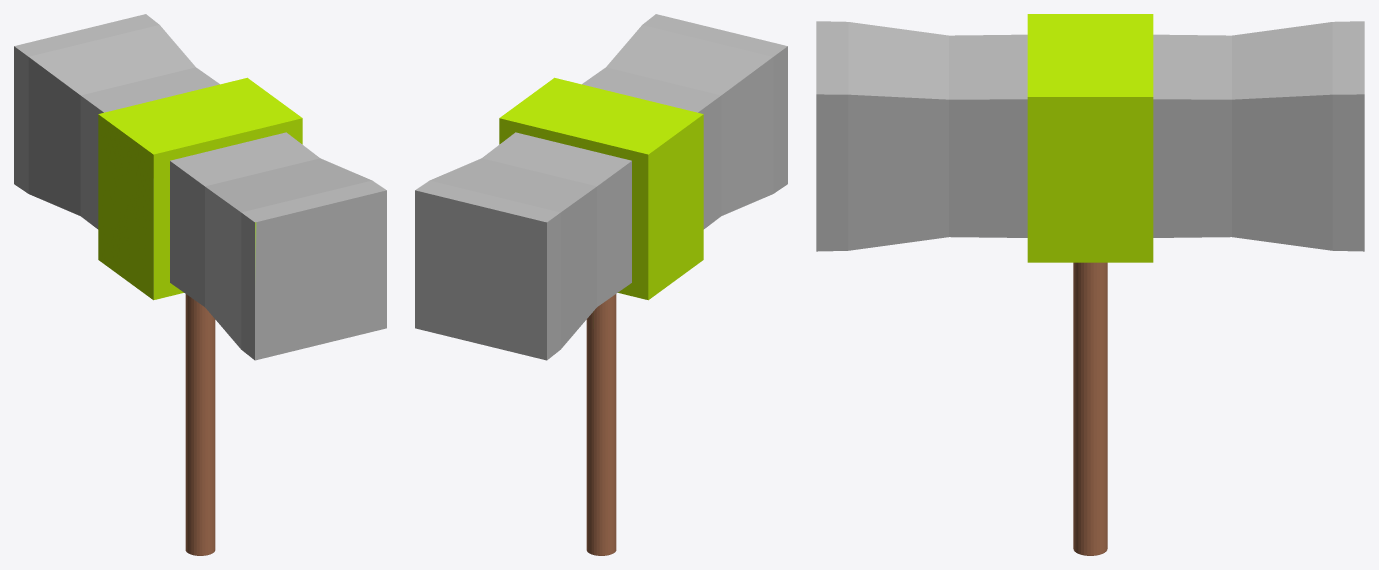
Rendered from hammer.obj.
3 renders of one model, left to right at view 1: azimuth 30°, elevation 25°; view 2: azimuth 150°, elevation 25°; view 3: azimuth 270°, elevation 25°, orthographic. The views are drawn at different scales.
Parts seen in each view (by area): view 1: 円柱; view 2: 円柱; view 3: 円柱.
Part boxes in pixels (<box>): 円柱: <box>14,14,386,555</box>; 円柱: <box>415,14,787,555</box>; 円柱: <box>816,14,1364,555</box>.
Size of the model in its own units: 2 by 5.55 by 5.59.
Materials: 1 (1 with a texture image).
